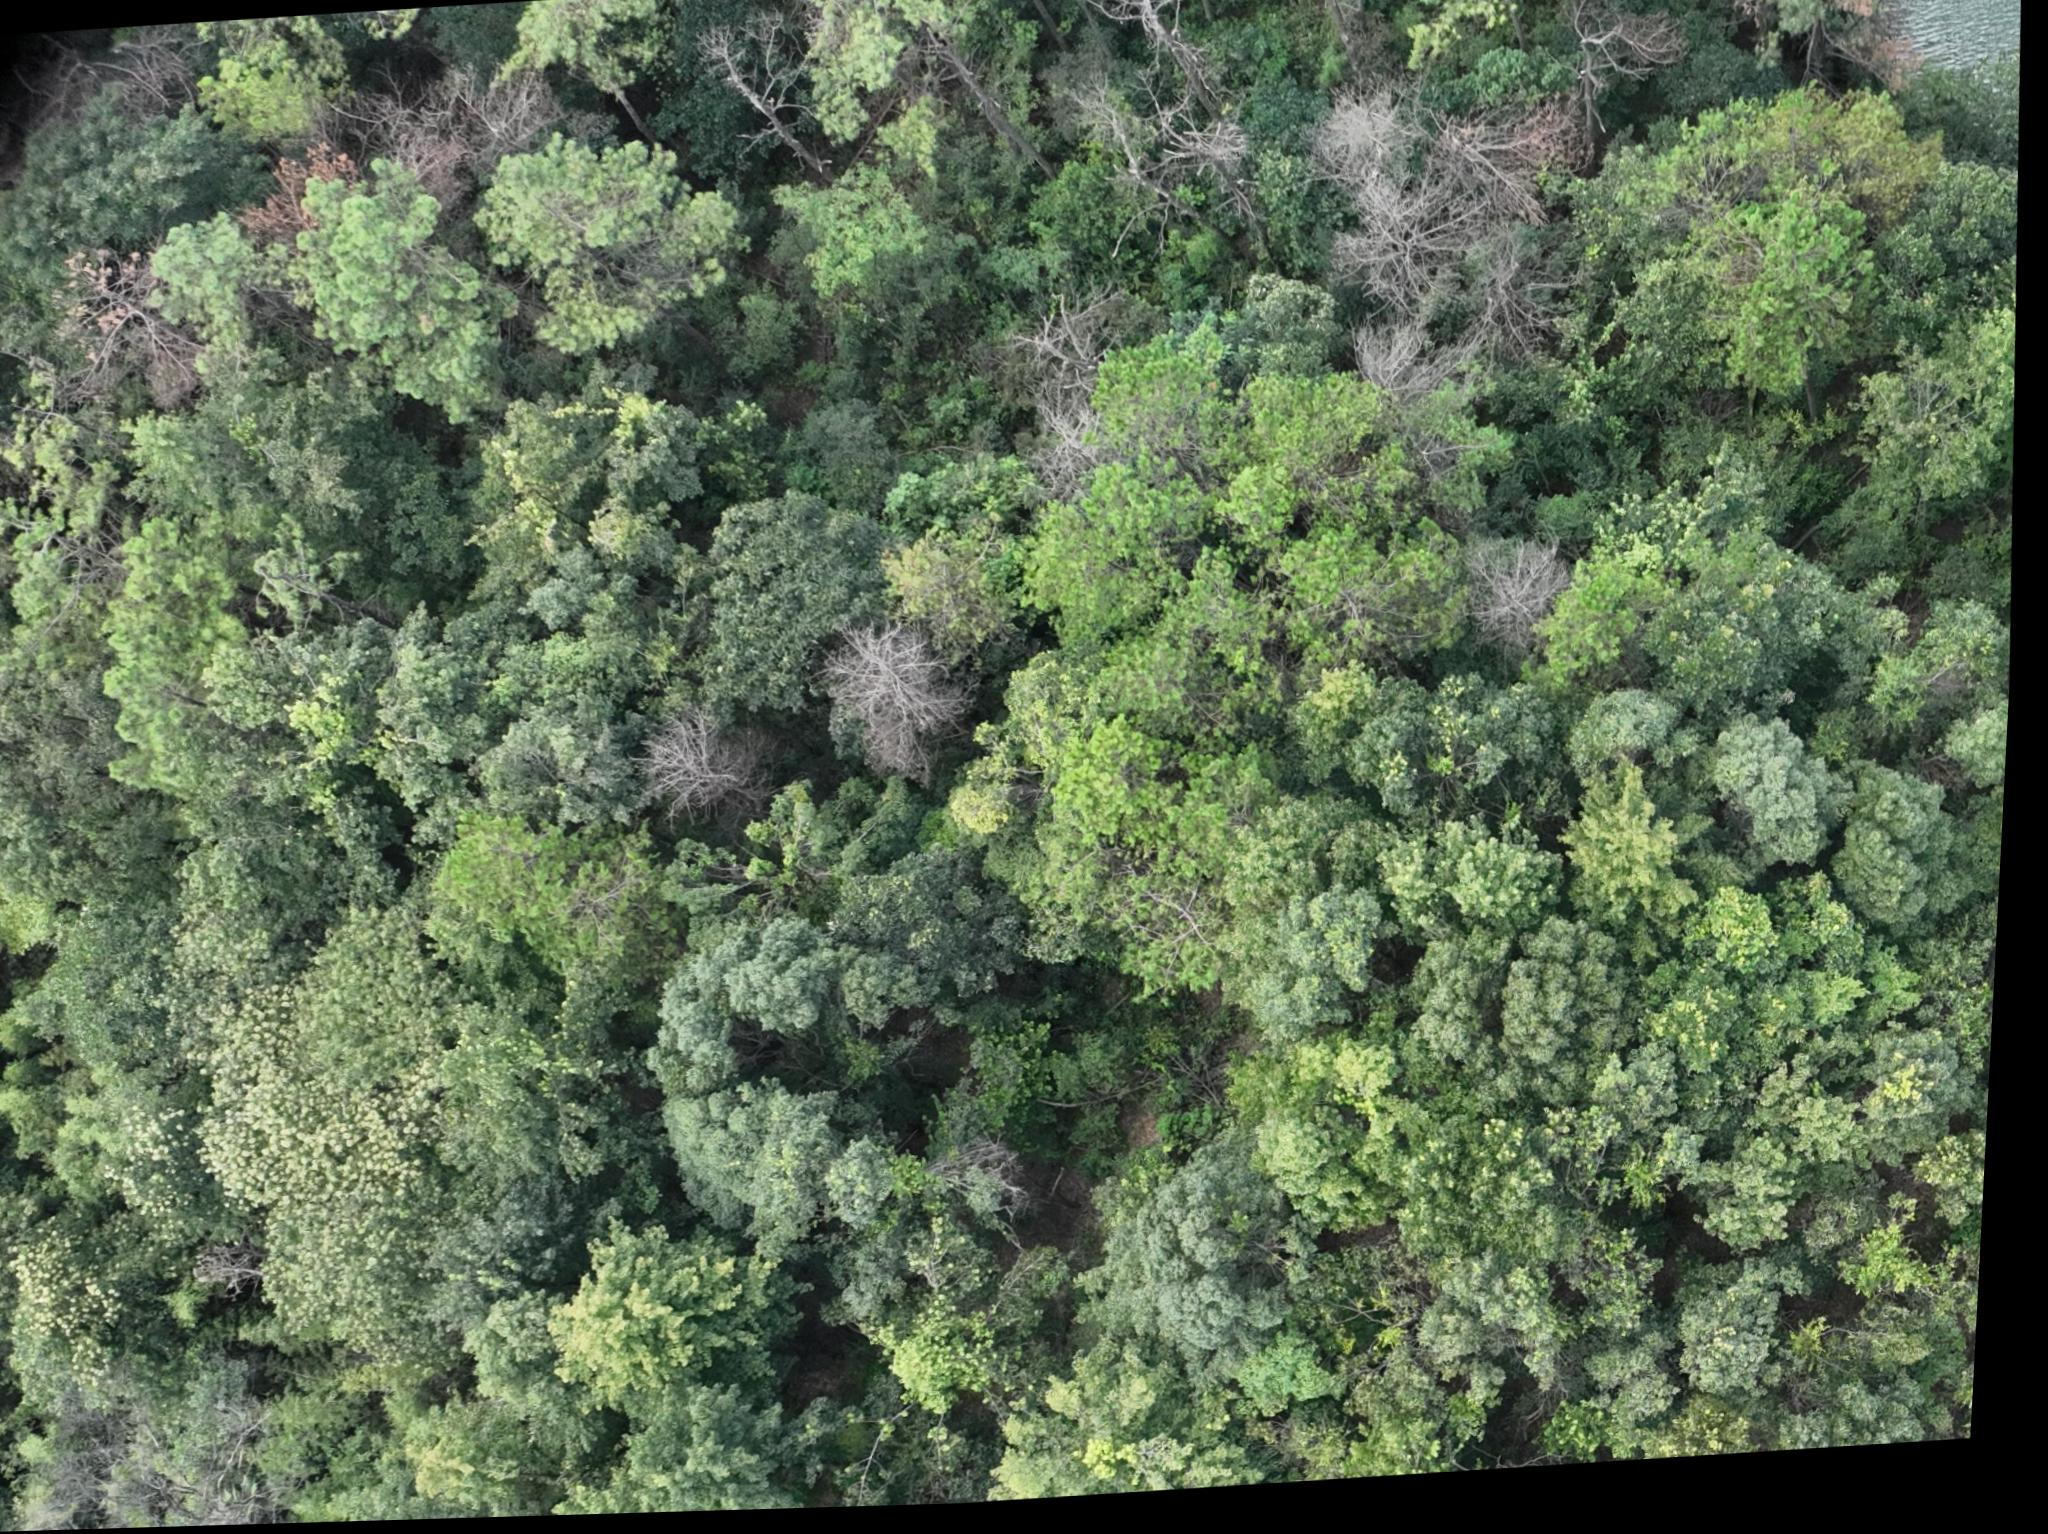dead: (1312, 77, 1565, 395), (364, 50, 566, 190), (34, 248, 189, 411), (1007, 301, 1128, 493), (822, 628, 959, 788), (635, 706, 777, 831), (1466, 543, 1576, 667)
